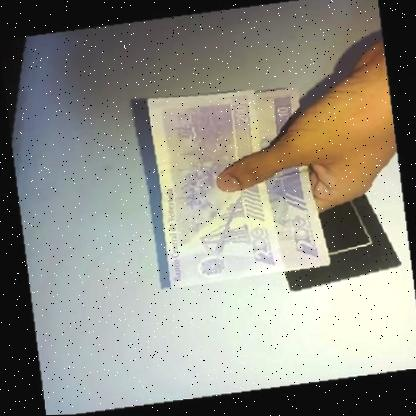two_hundred-back-vef: (146, 88, 281, 291)
